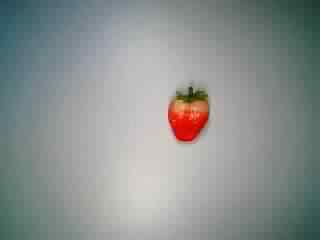strawberry: (153, 79, 226, 146)
